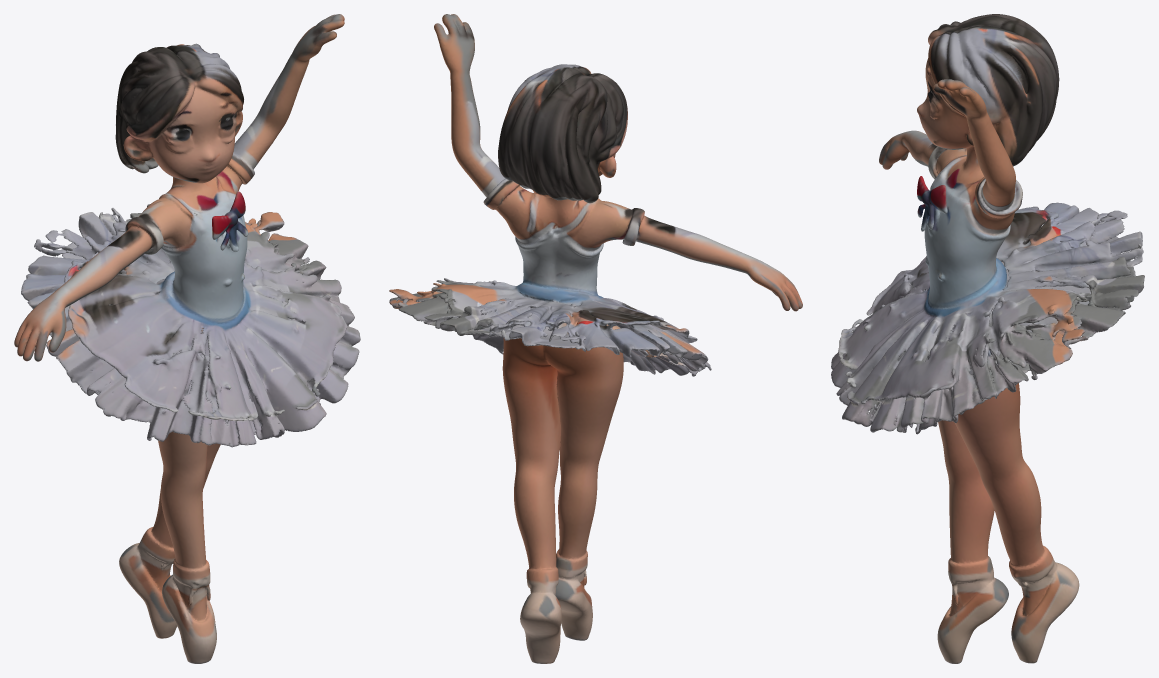
Rendered from ballet dancer 3d model.glb.
3 views of the same model, side by side, from view 1: azimuth 30°, elevation 25°; view 2: azimuth 150°, elevation 25°; view 3: azimuth 270°, elevation 25° (orthographic). The views are drawn at different scales.
Visible parts, largest first — view 1: tripo_node_5acba6ab-f5c5-4a5c-9c76-06aba8a7aa85; view 2: tripo_node_5acba6ab-f5c5-4a5c-9c76-06aba8a7aa85; view 3: tripo_node_5acba6ab-f5c5-4a5c-9c76-06aba8a7aa85.
Part boxes in pixels (bbox=[...]): tripo_node_5acba6ab-f5c5-4a5c-9c76-06aba8a7aa85: bbox=[14, 14, 360, 663]; tripo_node_5acba6ab-f5c5-4a5c-9c76-06aba8a7aa85: bbox=[389, 14, 802, 663]; tripo_node_5acba6ab-f5c5-4a5c-9c76-06aba8a7aa85: bbox=[831, 14, 1144, 663].
Size of the model in its own units: 0.6215 by 1 by 0.4377.
Materials: 1 (1 with a texture image).
